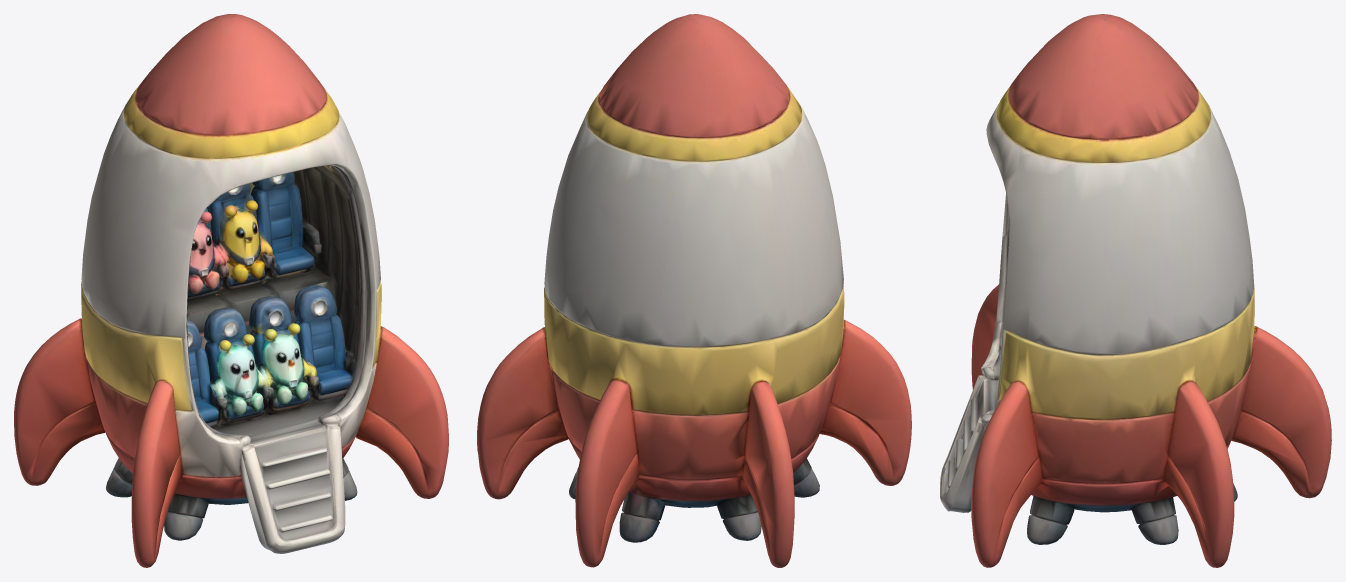
Rendered from escape_ship_web.glb.
The picture shows the model from 3 angles, left to right: view 1: azimuth 30°, elevation 25°; view 2: azimuth 150°, elevation 25°; view 3: azimuth 270°, elevation 25°; orthographic projection.
Parts seen in each view (by area): view 1: node_0; view 2: node_0; view 3: node_0.
Boxes of the visible parts, x1,y1,x2,y2 form: node_0: (14,14,448,567); node_0: (477,14,911,567); node_0: (940,14,1331,567).
Bounding box in the file's own units: 0.6396 × 0.9235 × 0.68.
1 material, 1 textured.
